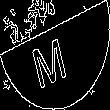M_N: (34, 23, 76, 87)
